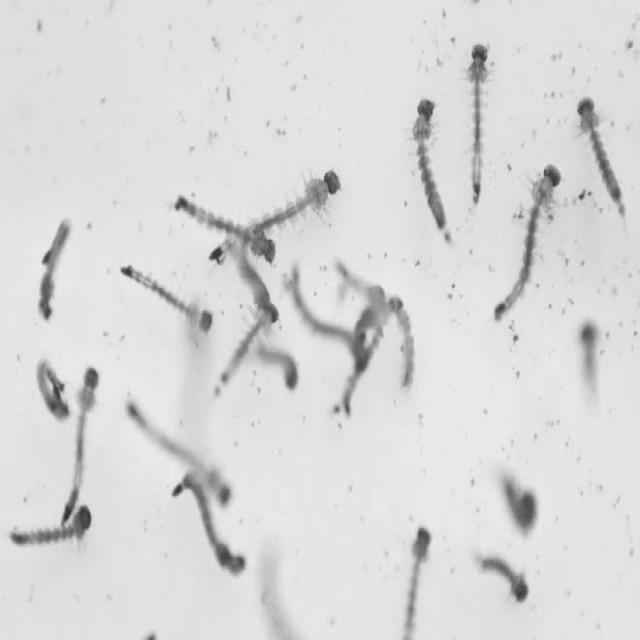larvas: (209, 170, 338, 262), (126, 401, 230, 503), (495, 163, 560, 320), (288, 270, 369, 365), (173, 473, 243, 573), (175, 196, 274, 262), (120, 265, 211, 332), (578, 96, 624, 217), (412, 99, 450, 241), (63, 368, 97, 522), (214, 307, 271, 393), (342, 329, 385, 419), (233, 244, 277, 320), (402, 528, 431, 639), (38, 221, 69, 319), (11, 506, 90, 544), (468, 44, 487, 202), (480, 557, 528, 601), (501, 476, 536, 532), (36, 361, 69, 417), (392, 297, 413, 385), (257, 343, 297, 388), (579, 320, 597, 396)
